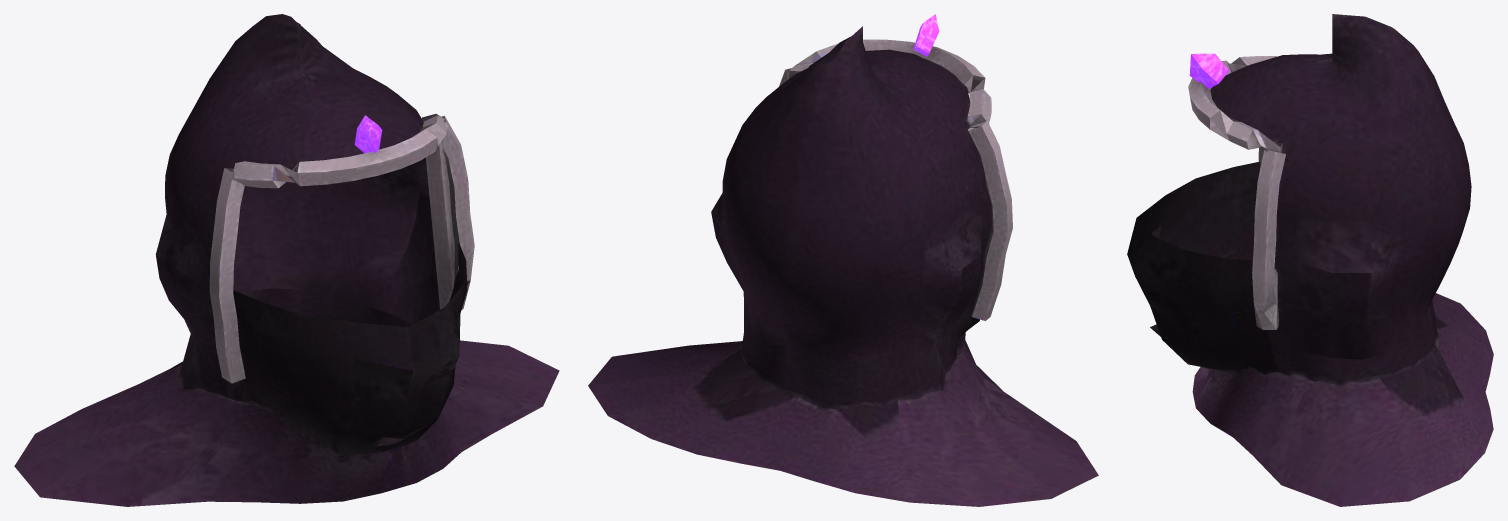
The model's file is Capuz_do_Assassino_nivel75.glb.
The picture shows the model from 3 angles, left to right: view 1: azimuth 30°, elevation 25°; view 2: azimuth 150°, elevation 25°; view 3: azimuth 270°, elevation 25°; orthographic projection. The views are drawn at different scales.
Visible parts, largest first — view 1: capuz_do_assassino_nivel75; view 2: capuz_do_assassino_nivel75; view 3: capuz_do_assassino_nivel75.
Part boxes in pixels (x1=…): capuz_do_assassino_nivel75: x1=14, y1=14, x2=559, y2=506; capuz_do_assassino_nivel75: x1=588, y1=14, x2=1098, y2=506; capuz_do_assassino_nivel75: x1=1127, y1=14, x2=1493, y2=506.
Bounding box in the file's own units: 0.4628 × 0.352 × 0.311.
Materials: 1 (1 with a texture image).
